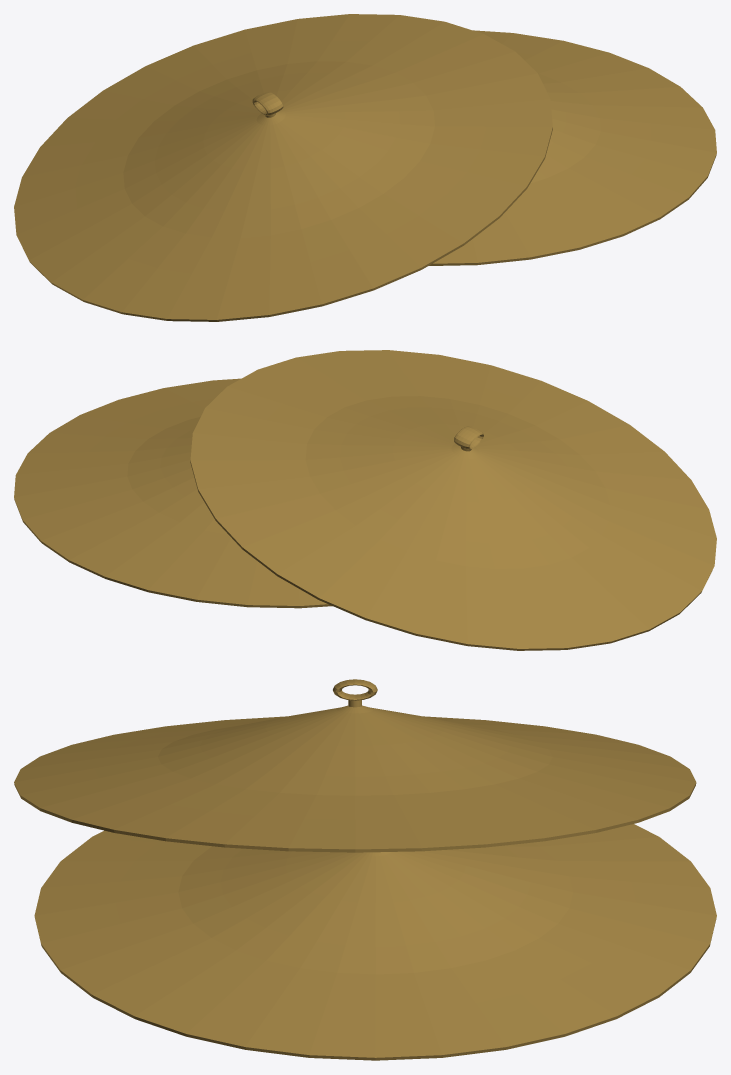
The model's file is Cymbals_0.fbx.
The picture shows the model from 3 angles, top to bottom: view 1: azimuth 30°, elevation 25°; view 2: azimuth 150°, elevation 25°; view 3: azimuth 270°, elevation 25°; orthographic projection. The views are drawn at different scales.
Parts seen in each view (by area): view 1: Circle.005; view 2: Circle.005; view 3: Circle.005.
Part boxes in pixels (x1,y1,x2,y2): Circle.005: [14, 14, 716, 321]; Circle.005: [14, 350, 716, 650]; Circle.005: [14, 679, 716, 1060].
Bounding box in the file's own units: 66.73 × 13.62 × 51.48.
